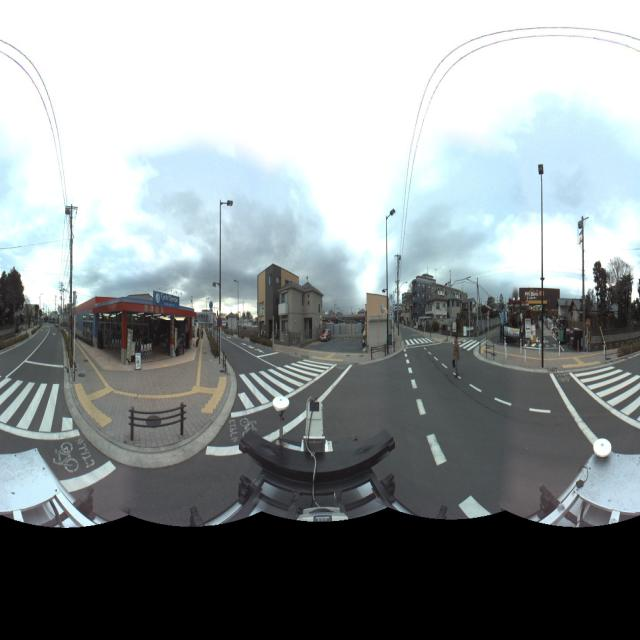b_1: (410, 268, 481, 348), (280, 276, 321, 354), (258, 258, 288, 346), (428, 296, 471, 345)
